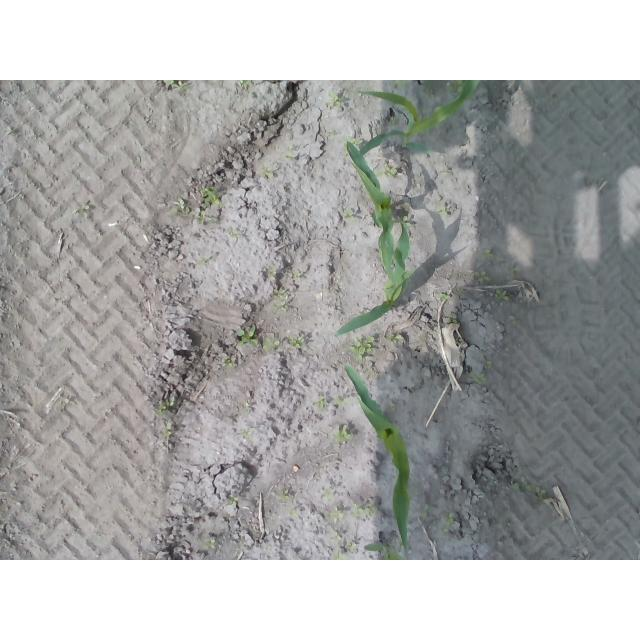Maize: (340, 360, 412, 552), (334, 162, 412, 336), (358, 80, 483, 144), (346, 137, 395, 229), (363, 530, 404, 560)
Weeds: (508, 462, 552, 506), (196, 188, 223, 225), (268, 267, 289, 313), (329, 530, 356, 560), (350, 334, 376, 363), (234, 324, 260, 349), (264, 337, 305, 352), (438, 511, 456, 538), (321, 90, 343, 111), (351, 504, 377, 520), (331, 424, 349, 444), (375, 163, 398, 178), (220, 353, 238, 371), (467, 371, 489, 385), (154, 397, 175, 411), (170, 198, 186, 215), (200, 536, 216, 552), (71, 205, 89, 219), (330, 508, 345, 524), (494, 288, 511, 301), (343, 209, 358, 223), (446, 81, 464, 92), (260, 163, 273, 178), (396, 214, 412, 226), (336, 397, 353, 408), (474, 271, 491, 282), (315, 395, 328, 409), (278, 489, 291, 503), (387, 332, 402, 344), (478, 248, 496, 258), (164, 80, 184, 89), (388, 80, 409, 88), (292, 270, 305, 282), (285, 144, 295, 159), (225, 493, 238, 504), (483, 359, 494, 370), (288, 507, 299, 518), (240, 429, 252, 439), (447, 313, 458, 323), (240, 80, 253, 88), (440, 290, 449, 301), (350, 137, 363, 144), (440, 206, 448, 216), (164, 429, 172, 439)
